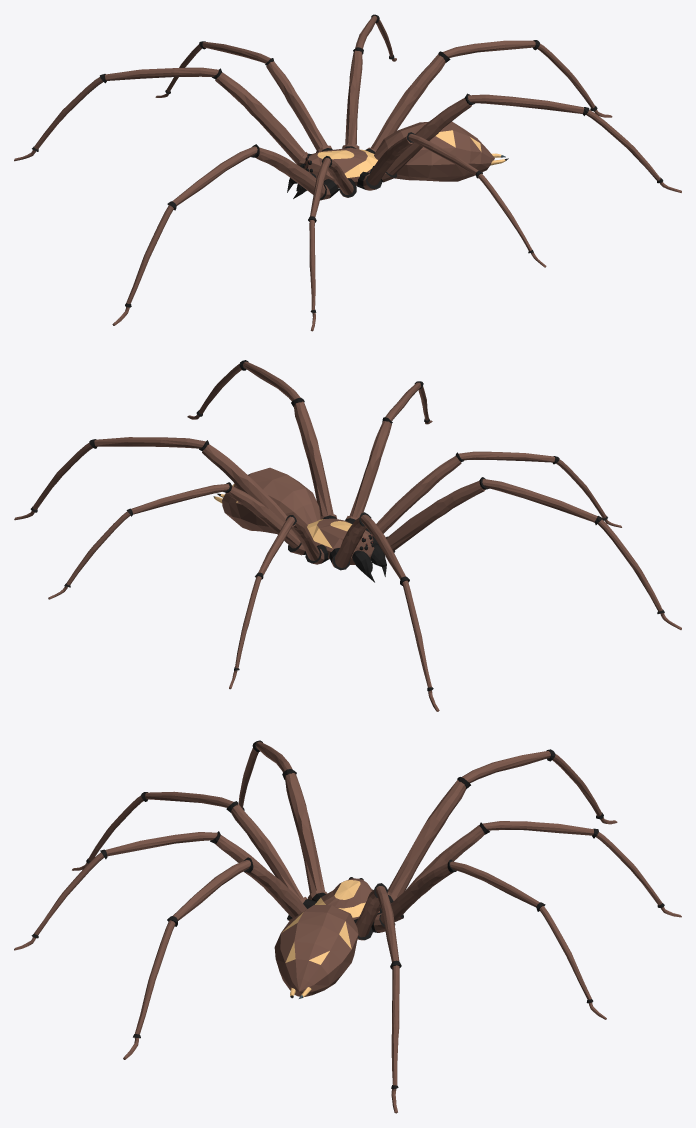
The model's file is spider.obj.
3 renders of one model, top to bottom at view 1: azimuth 30°, elevation 25°; view 2: azimuth 150°, elevation 25°; view 3: azimuth 270°, elevation 25°, orthographic. The views are drawn at different scales.
Parts seen in each view (by area): view 1: group423670962, group513928747, group1527940484, group888014332, group1104609954, group1101507302, group1946732356, group881726422, group1227176505, group1914945794, group635251391, group82012429 (+10 smaller); view 2: group423670962, group1527940484, group1914945794, group1104609954, group1974204301, group888014332, group1378341554, group635251391, group82012429, group1946732356, group2092966720, group1401908631 (+10 smaller); view 3: group423670962, group513928747, group1914945794, group1974204301, group1527940484, group1104609954, group1946732356, group643759245, group450192717, group881726422, group1227176505, group1101507302 (+9 smaller).
Boxes of the visible parts, bbox=[...] form: group423670962: bbox=[374, 121, 508, 181]; group513928747: bbox=[215, 72, 305, 164]; group1527940484: bbox=[287, 147, 377, 198]; group888014332: bbox=[371, 54, 445, 150]; group1104609954: bbox=[386, 98, 471, 175]; group1101507302: bbox=[266, 61, 327, 150]; group1946732356: bbox=[345, 50, 362, 144]; group881726422: bbox=[468, 94, 584, 113]; group1227176505: bbox=[105, 67, 218, 80]; group1914945794: bbox=[255, 147, 325, 197]; group635251391: bbox=[172, 146, 257, 205]; group82012429: bbox=[442, 40, 535, 57]; group423670962: bbox=[213, 467, 321, 533]; group1527940484: bbox=[307, 518, 386, 582]; group1914945794: bbox=[387, 481, 485, 551]; group1104609954: bbox=[294, 401, 333, 516]; group1974204301: bbox=[376, 456, 461, 533]; group888014332: bbox=[202, 444, 287, 521]; group1378341554: bbox=[349, 421, 391, 518]; group635251391: bbox=[482, 479, 597, 522]; group82012429: bbox=[94, 437, 205, 448]; group1946732356: bbox=[226, 486, 300, 548]; group2092966720: bbox=[131, 484, 229, 514]; group1401908631: bbox=[458, 451, 555, 462]; group423670962: bbox=[274, 905, 358, 998]; group513928747: bbox=[388, 780, 466, 897]; group1914945794: bbox=[285, 773, 324, 893]; group1974204301: bbox=[231, 804, 303, 899]; group1527940484: bbox=[315, 877, 379, 919]; group1104609954: bbox=[243, 862, 306, 918]; group1946732356: bbox=[380, 863, 453, 923]; group643759245: bbox=[105, 832, 217, 856]; group450192717: bbox=[483, 821, 593, 835]; group881726422: bbox=[173, 860, 250, 920]; group1227176505: bbox=[461, 751, 550, 782]; group1101507302: bbox=[402, 825, 484, 914].
Size of the model in its own units: 2.78 by 0.6517 by 2.46.
